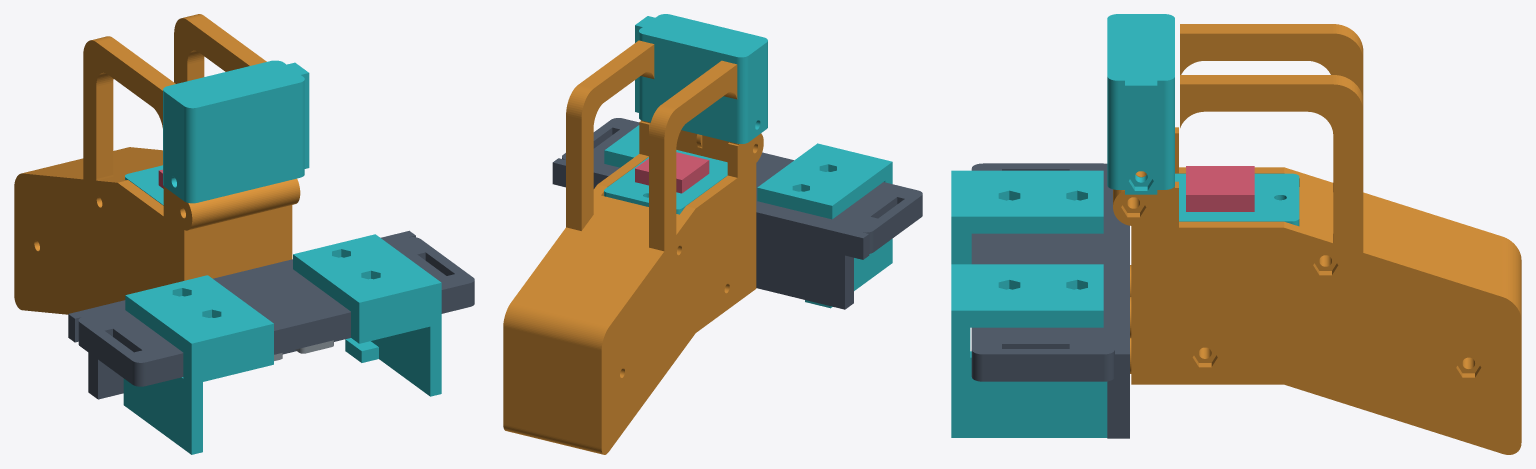
File: blaster-body.glb
The picture shows the model from 3 angles, left to right: view 1: azimuth 30°, elevation 25°; view 2: azimuth 150°, elevation 25°; view 3: azimuth 270°, elevation 25°; orthographic projection. The views are drawn at different scales.
Parts seen in each view (by area): view 1: component_0, component_3, component_2, component_5, component_6, component_1, component_4; view 2: component_0, component_1, component_2, component_3, component_5, component_4, component_13, component_6; view 3: component_1, component_6, component_2, component_0, component_3, component_5, component_4, component_13.
Part boxes in pixels (x1,y1,x2,y2): component_0: (14,36,246,314); component_3: (163,60,309,203); component_2: (68,230,474,399); component_5: (123,275,273,454); component_6: (293,234,441,396); component_1: (76,14,300,272); component_4: (125,165,163,205); component_0: (552,60,763,454); component_1: (503,40,702,442); component_2: (552,118,922,309); component_3: (635,14,767,143); component_5: (757,143,892,308); component_4: (604,150,727,214); component_13: (635,152,709,193); component_6: (604,125,639,167); component_1: (1113,75,1521,454); component_6: (951,264,1107,437); component_2: (971,163,1129,438); component_0: (1130,24,1521,296); component_3: (1107,14,1174,194); component_5: (951,170,1103,264); component_4: (1175,173,1299,226); component_13: (1186,166,1254,211).
Size of the model in its own units: 0.12 by 0.1106 by 0.1514.
